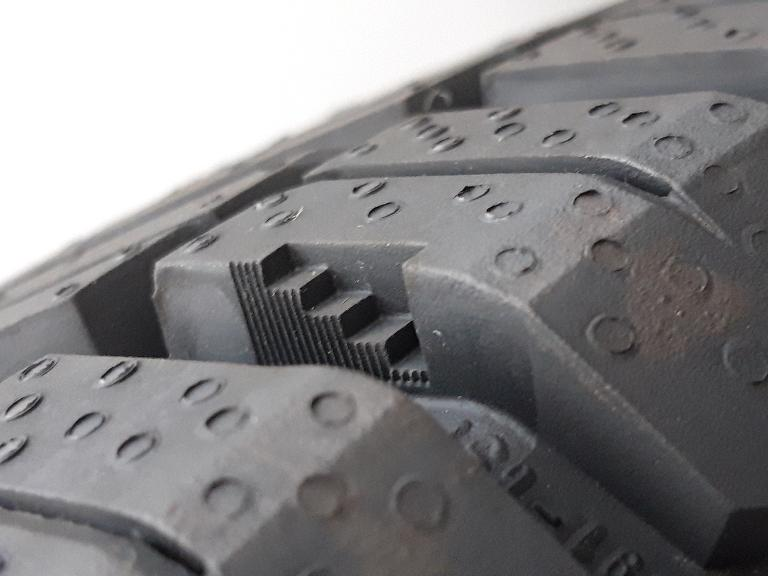temoin:100: (220, 230, 443, 402)
